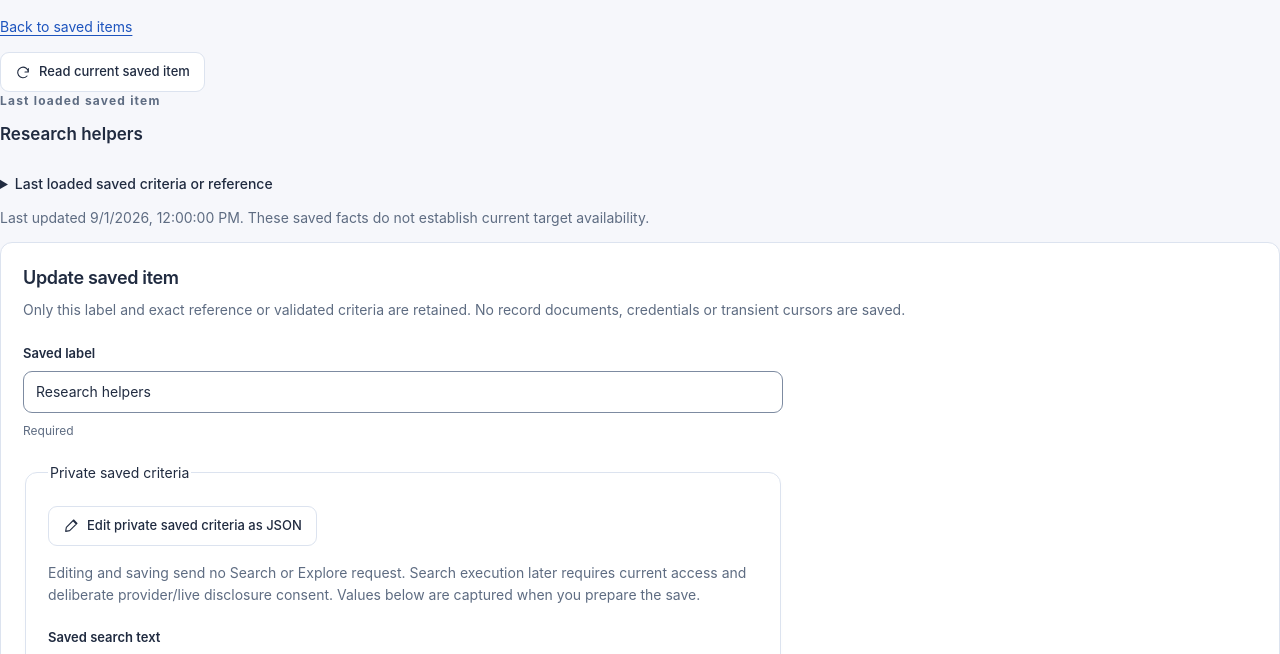
Test: binds the rename to the loaded identity and revision
Expected: the heading "Research helpers" is shown, [0,124,143,144]
Replace the text in the field labelled "Saved label" with "Renamed". click: (403, 392)
box: [23,371,783,413]
(page scrolled)
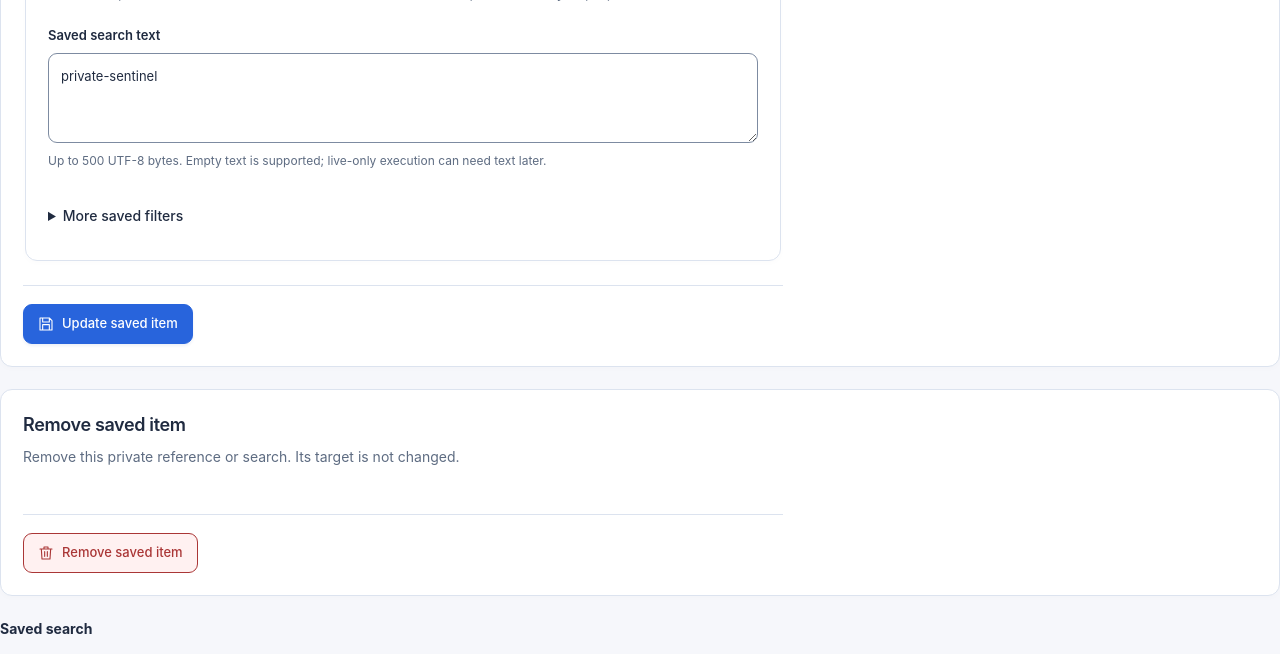
Click the button "Update saved item". click: click(108, 324)
box: [23,304,193,344]
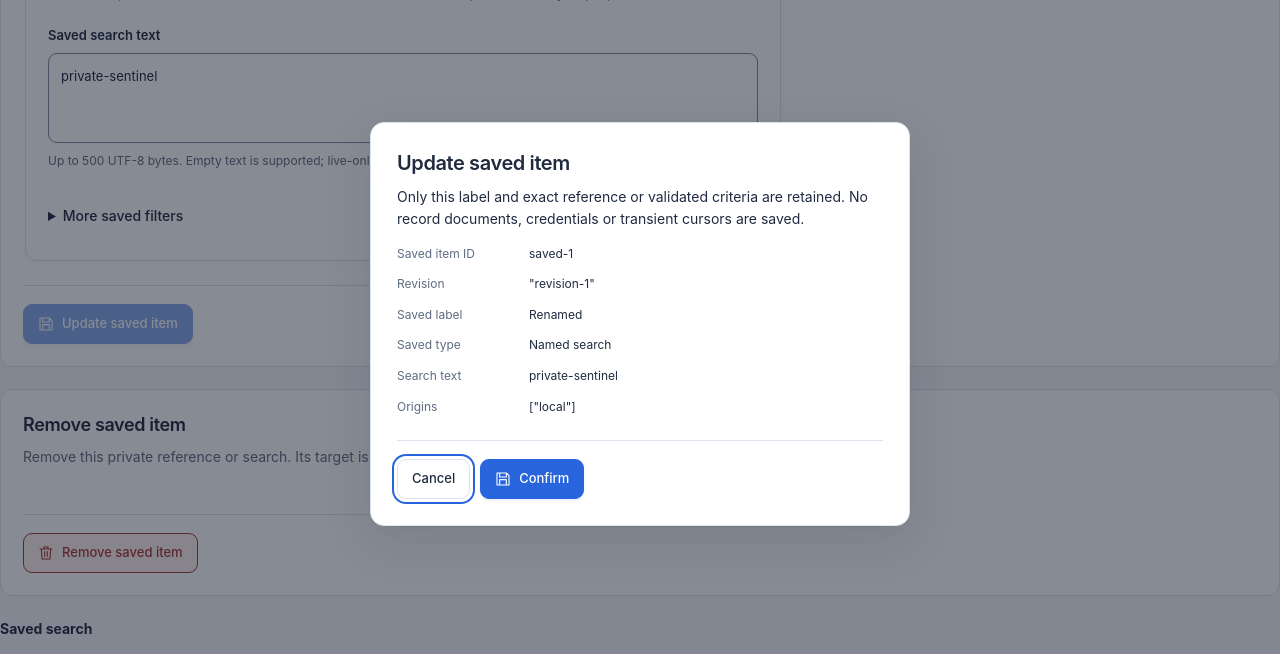
Click the button "Confirm". click: click(532, 479)
box: [480,459,584,499]
(page scrolled)
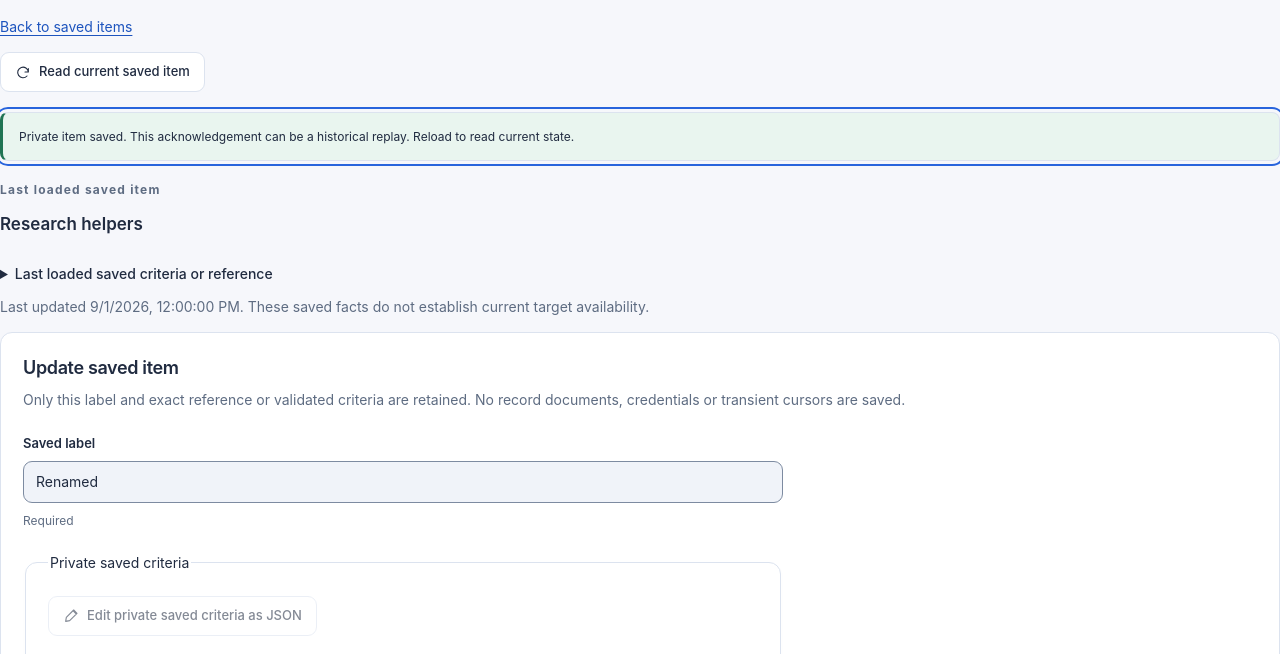
Expected: the text "Private item saved." is shown, [19,129,127,144]
